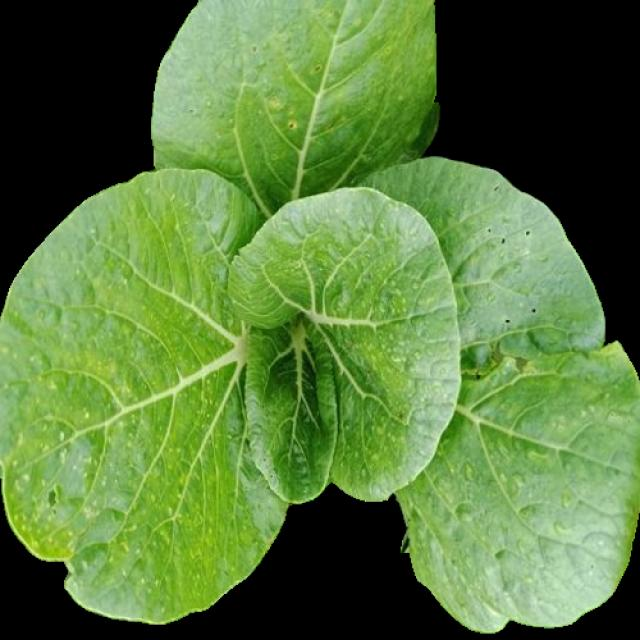mature: (1, 1, 639, 635)
unhealthy: (2, 174, 286, 618), (370, 161, 636, 631), (233, 188, 461, 494), (151, 1, 438, 169)
